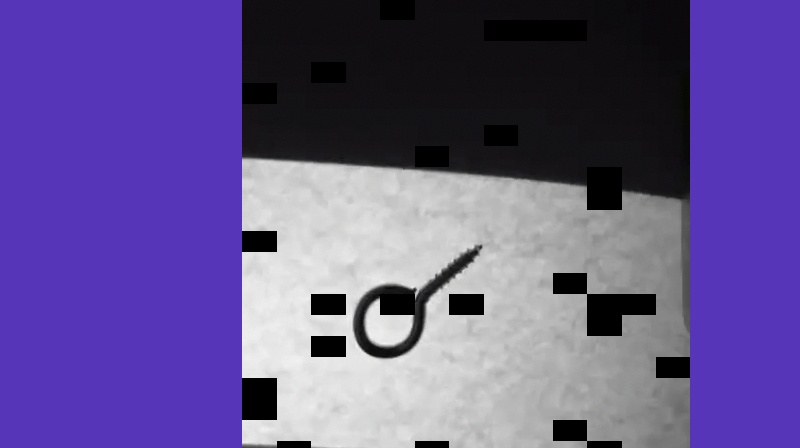O001: (347, 235, 487, 363)
